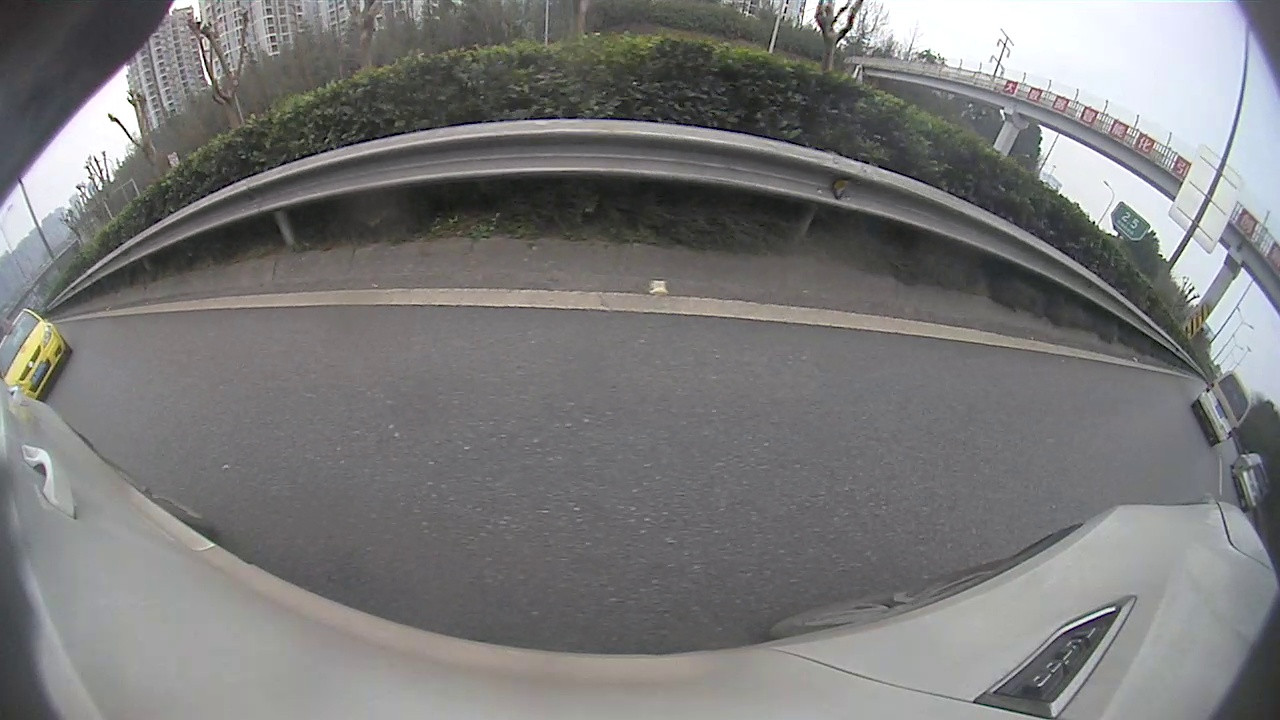car: (2, 308, 70, 398), (1190, 372, 1252, 448), (1231, 453, 1265, 514)
